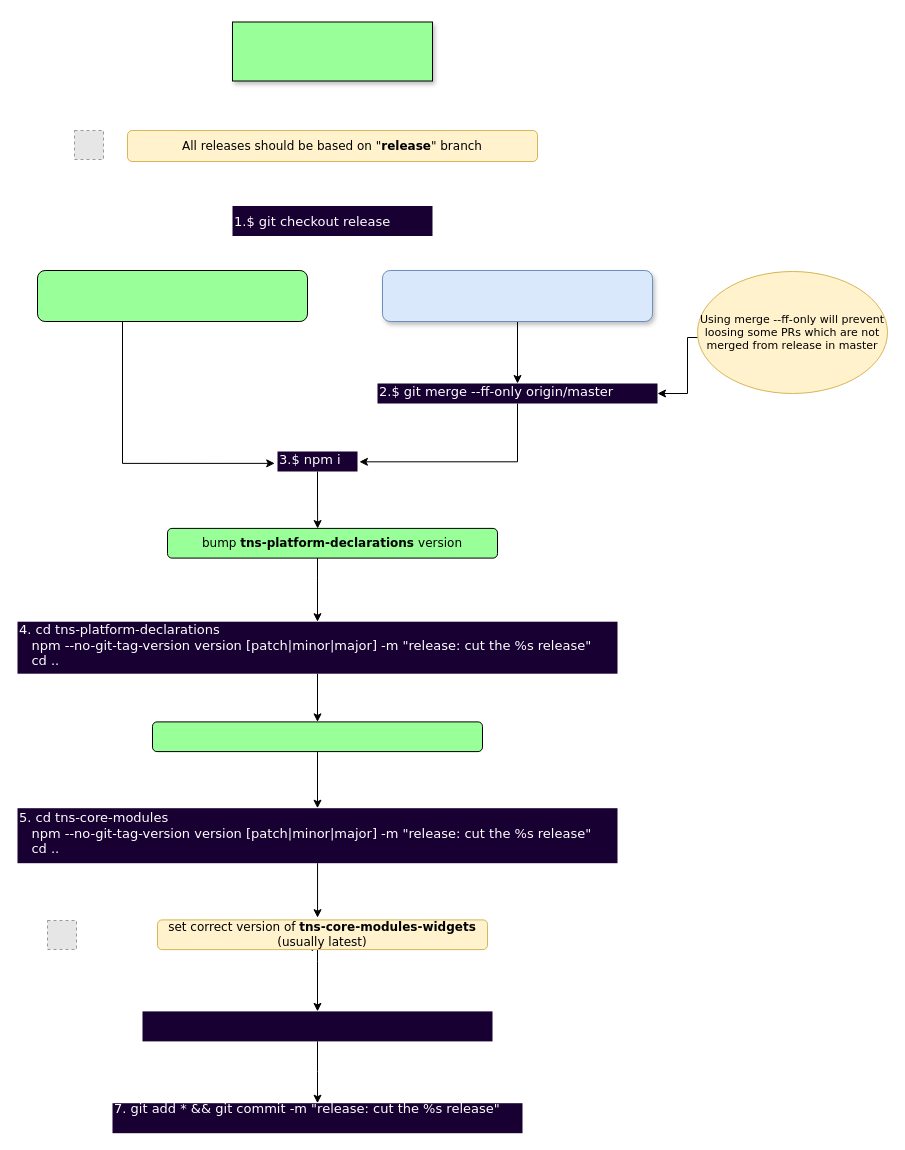
Image size: 905x1150. Some labels were removed from this diagram. Grey dashed boxes stand in for pictures. Each missing label, with the centre of its shape:
"6. git push --set-upstream origin release-version" belongs at pixel 317 1026.
"bump tns-core-module s version" belongs at pixel 317 736.
"major/ minor release" belongs at pixel 518 297.
"patch release" belongs at pixel 172 296.
"release cycle" belongs at pixel 333 52.
